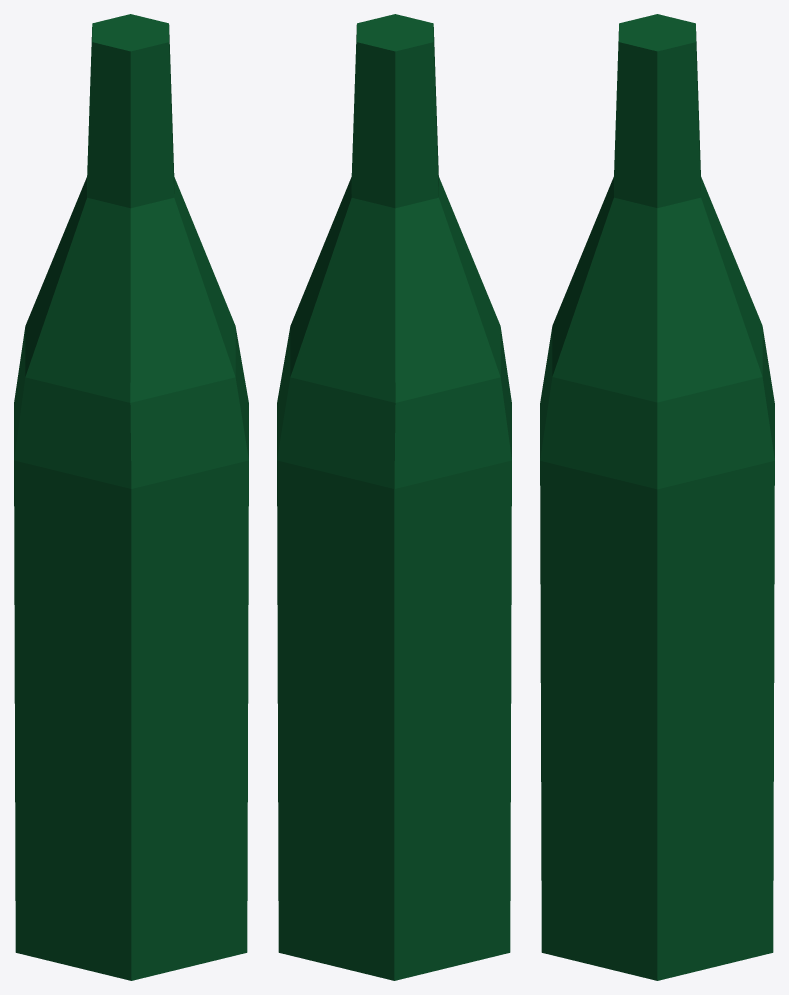
File: bottle.fbx
3 renders of one model, left to right at view 1: azimuth 30°, elevation 25°; view 2: azimuth 150°, elevation 25°; view 3: azimuth 270°, elevation 25°, orthographic.
Parts seen in each view (by area): view 1: Cube; view 2: Cube; view 3: Cube.
Part boxes in pixels (<box>): Cube: <box>14,14,248,980</box>; Cube: <box>277,14,511,980</box>; Cube: <box>540,14,774,980</box>.
Size of the model in its own units: 57.86 by 210 by 50.11.
